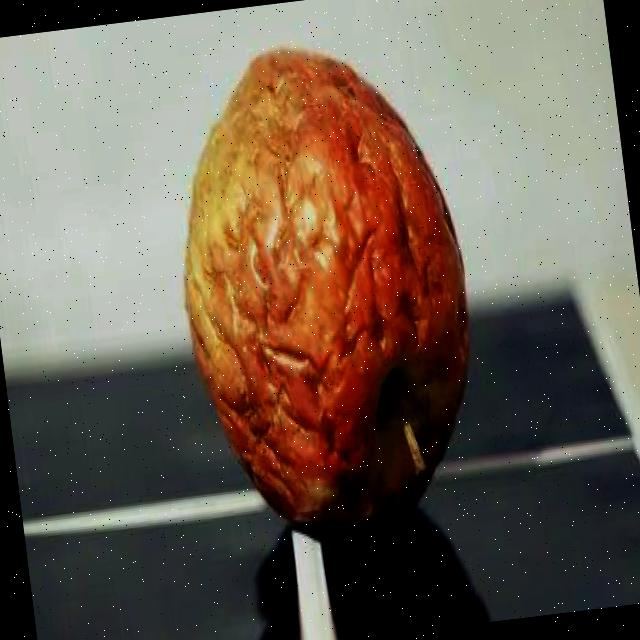rotten apple: (120, 0, 522, 592)
